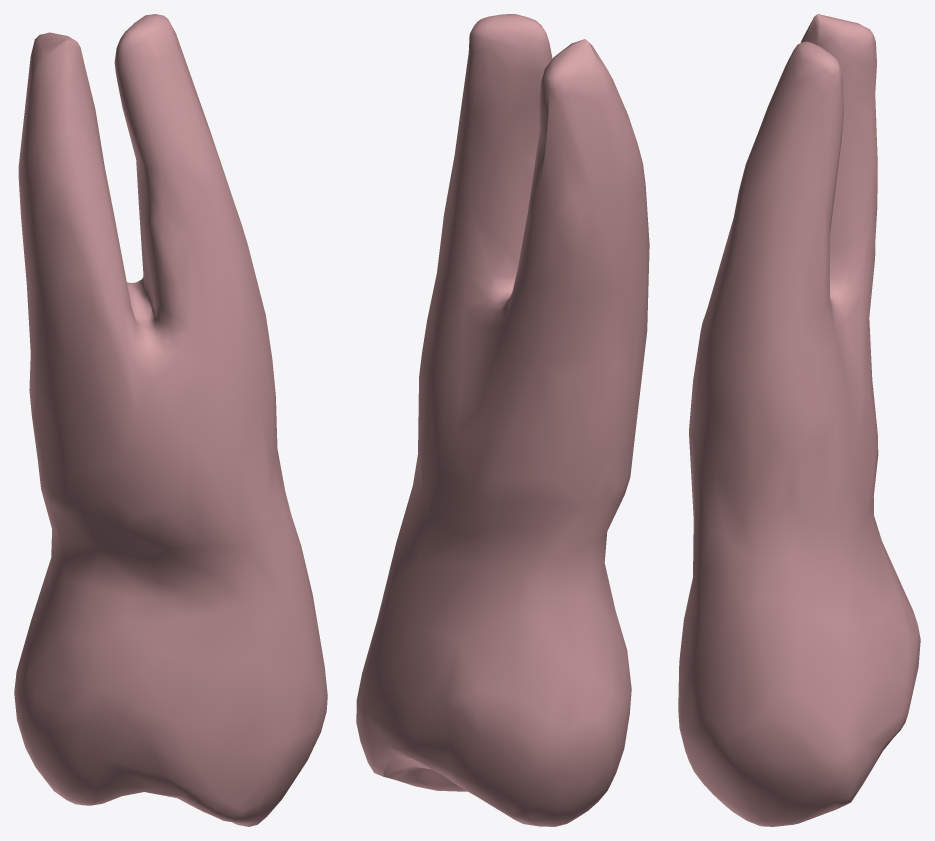
File: fma55690_mm825.glb
3 views of the same model, side by side, from view 1: azimuth 30°, elevation 25°; view 2: azimuth 150°, elevation 25°; view 3: azimuth 270°, elevation 25° (orthographic). The views are drawn at different scales.
Visible parts, largest first — view 1: FMA55690_MM825; view 2: FMA55690_MM825; view 3: FMA55690_MM825.
Boxes of the visible parts, x1,y1,x2,y2 form: FMA55690_MM825: [14, 14, 327, 826]; FMA55690_MM825: [356, 14, 649, 826]; FMA55690_MM825: [678, 14, 920, 826].
Bounding box in the file's own units: 0.00865 × 0.0247 × 0.00732.
